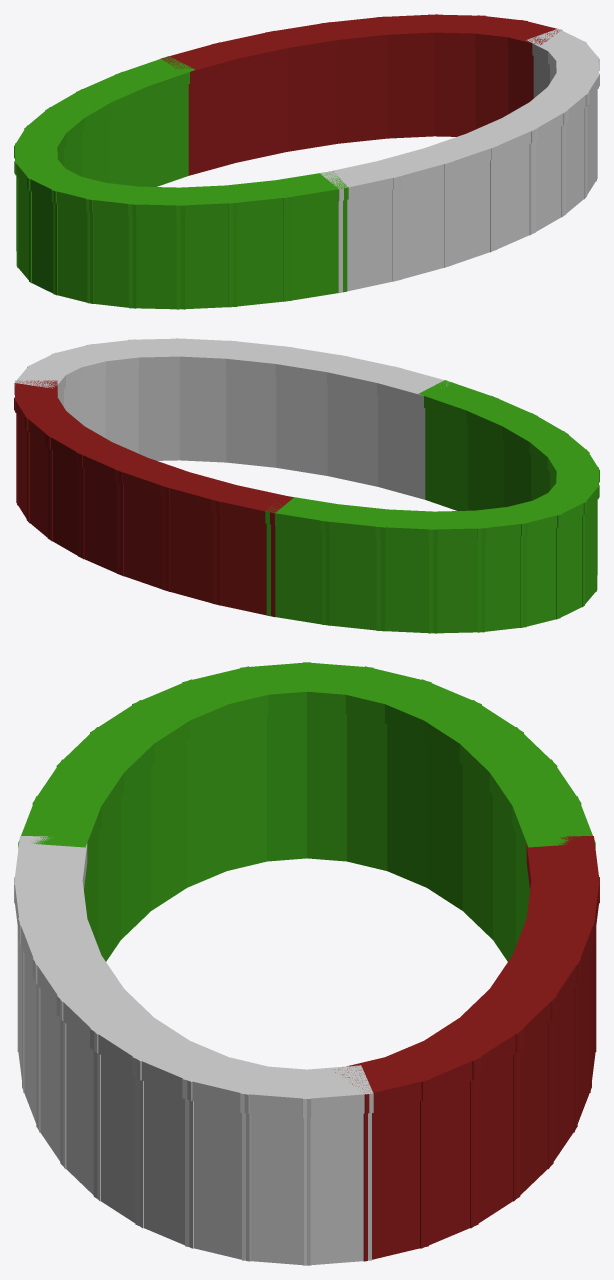
The model's file is CMU3DRMCCLFArmbandInsigniaExtraCloud.glb.
The picture shows the model from 3 angles, top to bottom: view 1: azimuth 30°, elevation 25°; view 2: azimuth 150°, elevation 25°; view 3: azimuth 270°, elevation 25°; orthographic projection. The views are drawn at different scales.
Visible parts, largest first — view 1: Connected cloth loop segment 22, Connected cloth loop segment 21, Connected cloth loop segment 23, Connected cloth loop segment 20, Connected cloth loop segment 6, Connected cloth loop segment 24, Connected cloth loop segment 5, Connected cloth loop segment 7, Connected cloth loop segment 19, Connected cloth loop segment 4, Connected cloth loop segment 8, Connected cloth loop segment 25 (+48 smaller); view 2: Connected cloth loop segment 9, Connected cloth loop segment 10, Connected cloth loop segment 8, Connected cloth loop segment 11, Connected cloth loop segment 25, Connected cloth loop segment 7, Connected cloth loop segment 26, Connected cloth loop segment 24, Connected cloth loop segment 12, Connected cloth loop segment 27, Connected cloth loop segment 23, Connected cloth loop segment 6 (+48 smaller); view 3: Connected cloth loop segment 0, Connected cloth loop segment 31, Connected cloth loop segment 1, Connected cloth loop segment 30, Connected cloth loop segment 2, Connected cloth loop segment 29, Connected cloth loop segment 3, Connected cloth loop segment 28, Connected cloth loop segment 14, Connected cloth loop segment 17, Connected cloth loop segment 15, Connected cloth loop segment 16 (+50 smaller).
Boxes of the visible parts, box(x1,y1,x2,y2) form: Connected cloth loop segment 22: box(283, 200, 347, 301); Connected cloth loop segment 21: box(228, 209, 291, 307); Connected cloth loop segment 23: box(338, 188, 401, 292); Connected cloth loop segment 20: box(176, 215, 237, 309); Connected cloth loop segment 6: box(286, 52, 337, 151); Connected cloth loop segment 24: box(392, 174, 451, 281); Connected cloth loop segment 5: box(337, 46, 387, 143); Connected cloth loop segment 7: box(236, 60, 286, 162); Connected cloth loop segment 19: box(129, 216, 184, 309); Connected cloth loop segment 4: box(387, 44, 434, 138); Connected cloth loop segment 8: box(188, 71, 235, 175); Connected cloth loop segment 25: box(444, 158, 497, 267); Connected cloth loop segment 9: box(266, 524, 330, 625); Connected cloth loop segment 10: box(322, 533, 385, 631); Connected cloth loop segment 8: box(212, 512, 275, 616); Connected cloth loop segment 11: box(376, 539, 437, 633); Connected cloth loop segment 25: box(276, 376, 327, 475); Connected cloth loop segment 7: box(162, 498, 221, 605); Connected cloth loop segment 26: box(226, 370, 276, 467); Connected cloth loop segment 24: box(327, 384, 377, 486); Connected cloth loop segment 12: box(429, 540, 484, 633); Connected cloth loop segment 27: box(179, 368, 226, 462); Connected cloth loop segment 23: box(378, 395, 425, 499); Connected cloth loop segment 6: box(116, 482, 169, 591); Connected cloth loop segment 0: box(303, 1113, 371, 1265); Connected cloth loop segment 31: box(242, 1113, 310, 1265); Connected cloth loop segment 1: box(363, 1099, 428, 1261); Connected cloth loop segment 30: box(185, 1099, 250, 1261); Connected cloth loop segment 2: box(420, 1077, 478, 1248); Connected cloth loop segment 29: box(135, 1077, 193, 1248); Connected cloth loop segment 3: box(470, 1050, 520, 1228); Connected cloth loop segment 28: box(93, 1050, 143, 1228); Connected cloth loop segment 14: box(347, 714, 387, 870); Connected cloth loop segment 17: box(226, 714, 266, 870); Connected cloth loop segment 15: box(307, 711, 346, 861); Connected cloth loop segment 16: box(267, 711, 306, 861).
Size of the model in its own units: 0.4401 by 0.079 by 0.2494.
